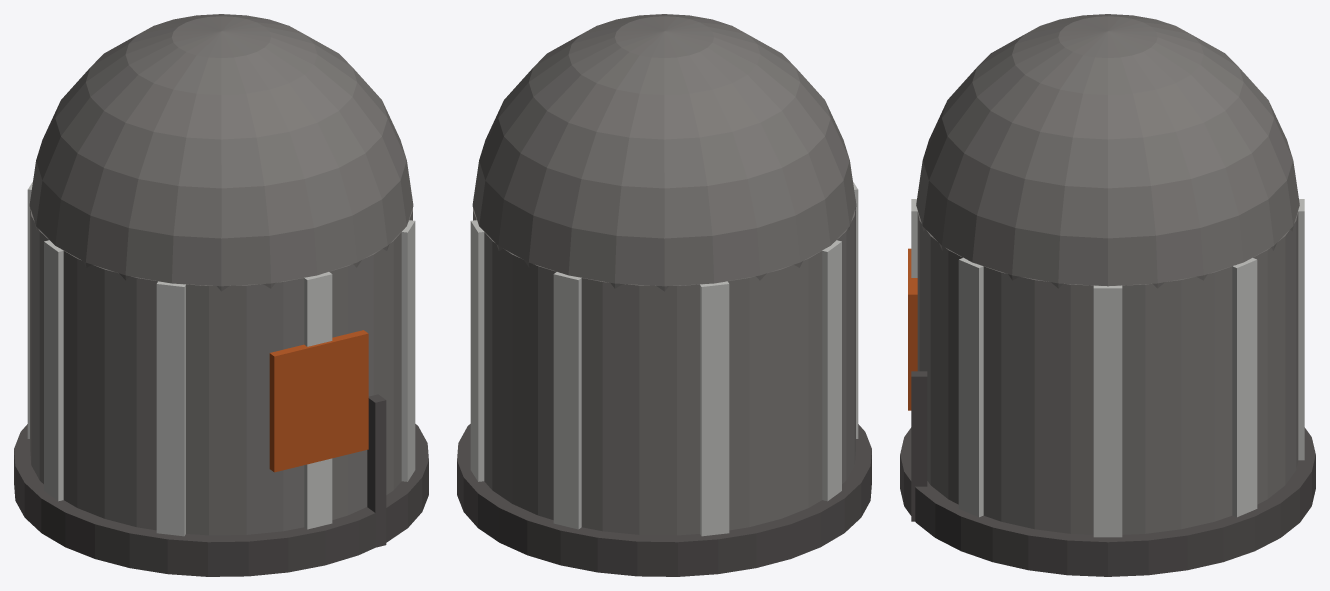
Rendered from storage_tank_script.glb.
The picture shows the model from 3 angles, left to right: view 1: azimuth 30°, elevation 25°; view 2: azimuth 150°, elevation 25°; view 3: azimuth 270°, elevation 25°; orthographic projection.
Visible parts, largest first — view 1: Sphere, Cylinder.001, Cylinder, Cube.008, Cube.005, Cube.004, Cube.006, Cube.007, Cube.009, Cube.003; view 2: Sphere, Cylinder.001, Cylinder, Cube.003, Cube.002, Cube.004, Cube.001, Cube.005; view 3: Sphere, Cylinder.001, Cylinder, Cube, Cube.007, Cube.001, Cube.009, Cube.002, Cube.008, Cube.006.
Boxes of the visible parts, x1=… form: Sphere: x1=29, y1=14, x2=413, y2=291; Cylinder.001: x1=30, y1=199, x2=412, y2=535; Cylinder: x1=14, y1=424, x2=428, y2=576; Cube.008: x1=269, y1=330, x2=368, y2=472; Cube.005: x1=156, y1=281, x2=185, y2=536; Cube.004: x1=44, y1=240, x2=63, y2=501; Cube.006: x1=304, y1=272, x2=332, y2=529; Cube.007: x1=401, y1=220, x2=415, y2=481; Cube.009: x1=367, y1=394, x2=386, y2=547; Cube.003: x1=27, y1=182, x2=32, y2=438; Sphere: x1=472, y1=14, x2=856, y2=291; Cylinder.001: x1=473, y1=199, x2=855, y2=535; Cylinder: x1=457, y1=424, x2=871, y2=576; Cube.003: x1=700, y1=281, x2=729, y2=536; Cube.002: x1=553, y1=272, x2=581, y2=529; Cube.004: x1=822, y1=240, x2=841, y2=501; Cube.001: x1=470, y1=220, x2=484, y2=481; Cube.005: x1=853, y1=182, x2=858, y2=438; Sphere: x1=916, y1=14, x2=1299, y2=288; Cylinder.001: x1=917, y1=211, x2=1298, y2=534; Cylinder: x1=900, y1=427, x2=1315, y2=576; Cube: x1=1093, y1=285, x2=1122, y2=537; Cube.007: x1=958, y1=257, x2=983, y2=517; Cube.001: x1=1232, y1=258, x2=1257, y2=517; Cube.009: x1=911, y1=371, x2=927, y2=521; Cube.002: x1=1298, y1=199, x2=1304, y2=460; Cube.008: x1=908, y1=248, x2=917, y2=410; Cube.006: x1=911, y1=199, x2=917, y2=277.
Size of the model in its own units: 13 by 15.8 by 13.
